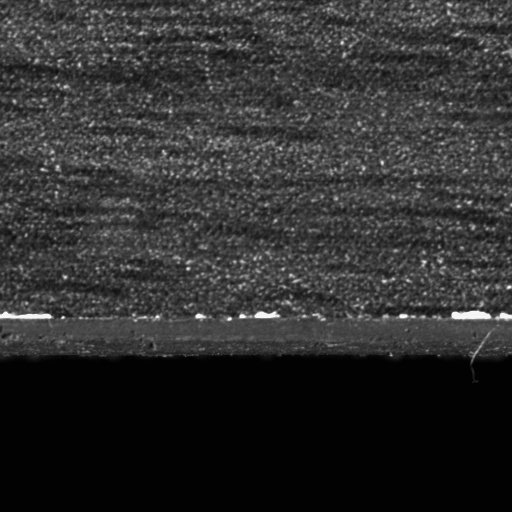huashang: (2, 309, 52, 321), (451, 310, 495, 322), (252, 309, 281, 319)
